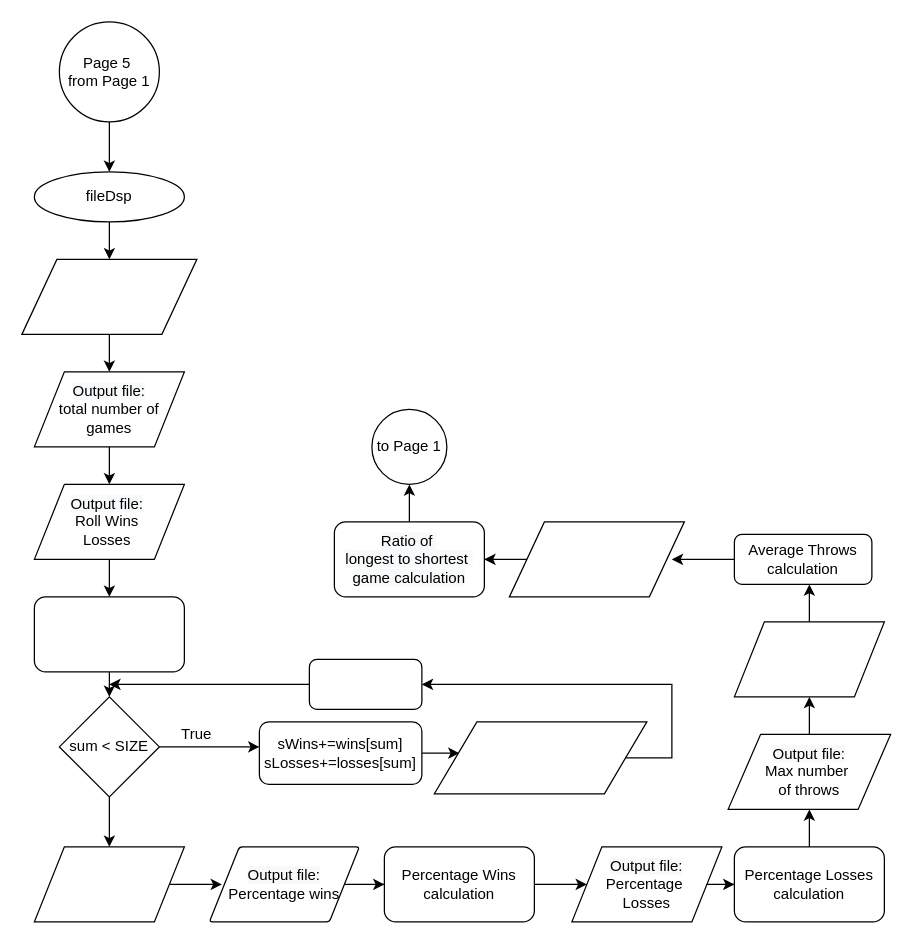
Some shapes in this 913 by 944 pixel diagram are drawn without their labels. The shapes that lost their labels are listed below. From the top down, each one's centre as x and y in pixels, then its label:
At point (109, 296): "Output file: fixed, setprecision(2), showpoint".
At point (596, 559): "Output file: Ratio of longest to shortest game".
At point (108, 634): "Declaration in For Loop sum =2".
At point (808, 659): "Output file: Average Throws per game".
At point (365, 683): "sum++".
At point (540, 757): "Output file: setw, sum, wins[sum] losses[sum]".
At point (108, 884): "Output file: Total wins and losses".
